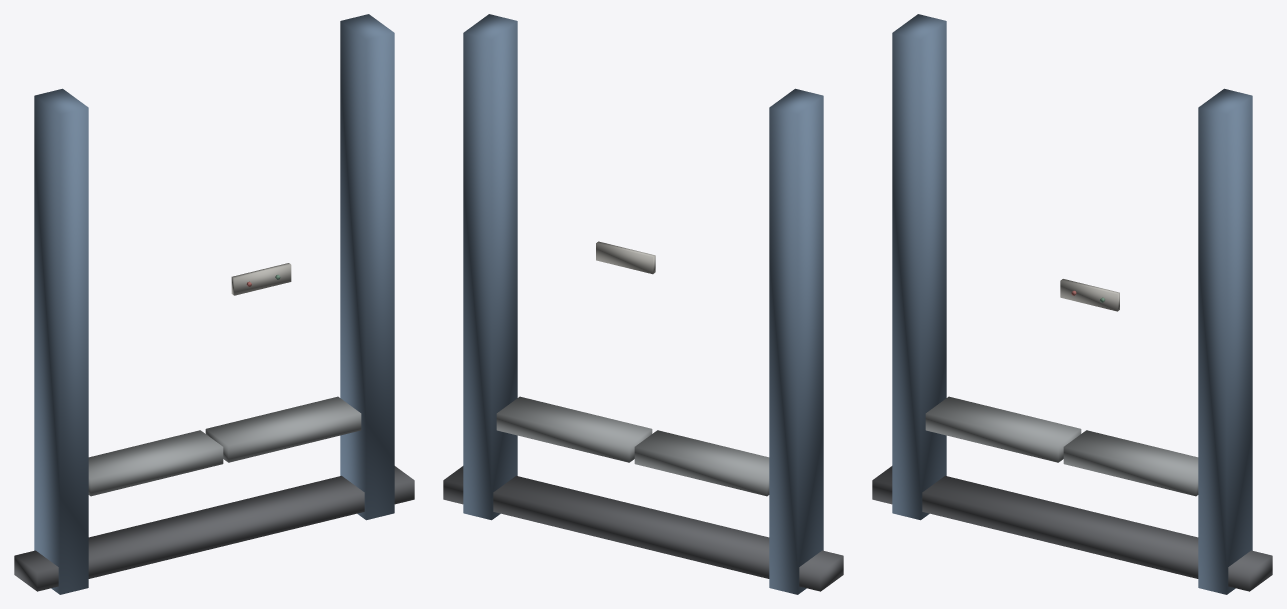
File: two_post_car_lift__deep.glb
3 renders of one model, left to right at view 1: azimuth 30°, elevation 25°; view 2: azimuth 150°, elevation 25°; view 3: azimuth 330°, elevation 25°, orthographic.
Visible parts, largest first — view 1: world; view 2: world; view 3: world.
Part boxes in pixels (x1,y1,x2,y2): world: [14, 14, 414, 594]; world: [443, 14, 843, 594]; world: [872, 14, 1272, 594].
Size of the model in its own units: 1.85 by 2.25 by 0.2574.
